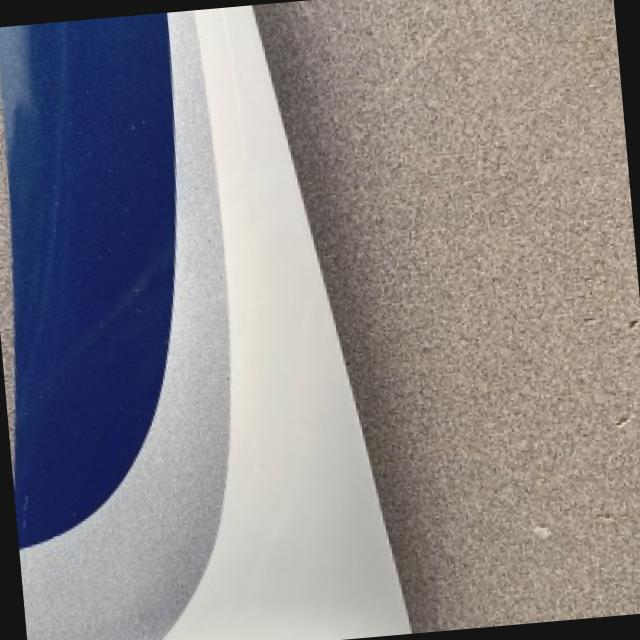healthy: (21, 5, 411, 640)
